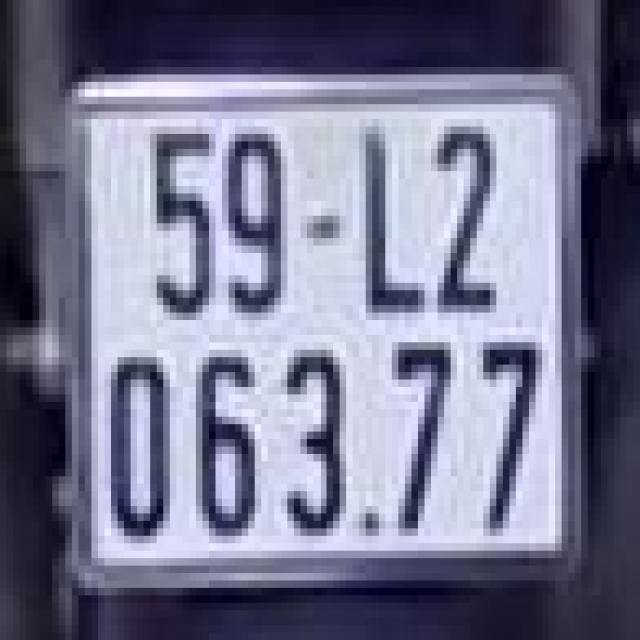0: (91, 338, 183, 554)
2: (428, 116, 512, 316)
3: (271, 338, 349, 540)
5: (124, 123, 216, 331)
6: (186, 339, 258, 547)
7: (375, 335, 454, 543), (474, 328, 546, 544)
9: (218, 104, 290, 328)
L: (343, 108, 441, 324)
